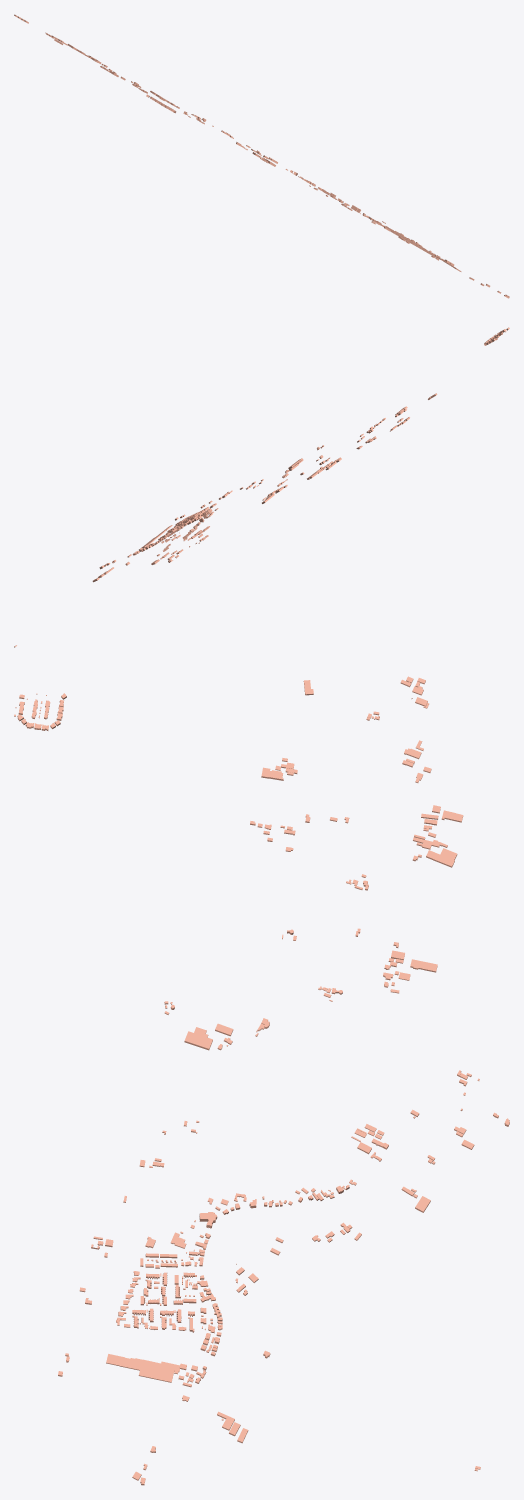
3 renders of one model, top to bottom at view 1: azimuth 30°, elevation 25°; view 2: azimuth 150°, elevation 25°; view 3: azimuth 270°, elevation 25°, orthographic. The views are drawn at different scales.
Bounding box in the file's own units: 1968 × 1472 × 1326.
